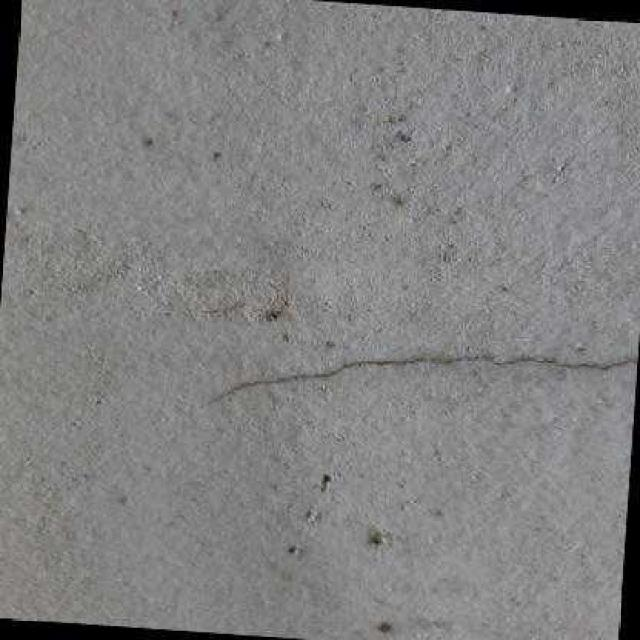D00: (197, 351, 638, 408)
